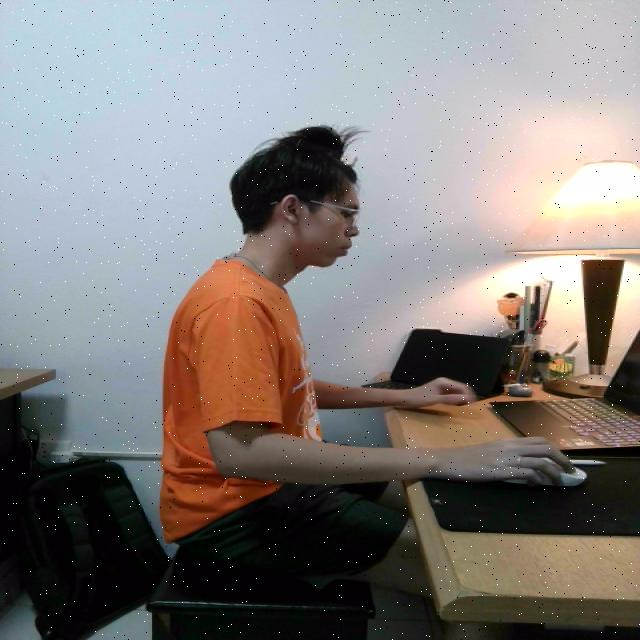Bad: (154, 116, 440, 588)
